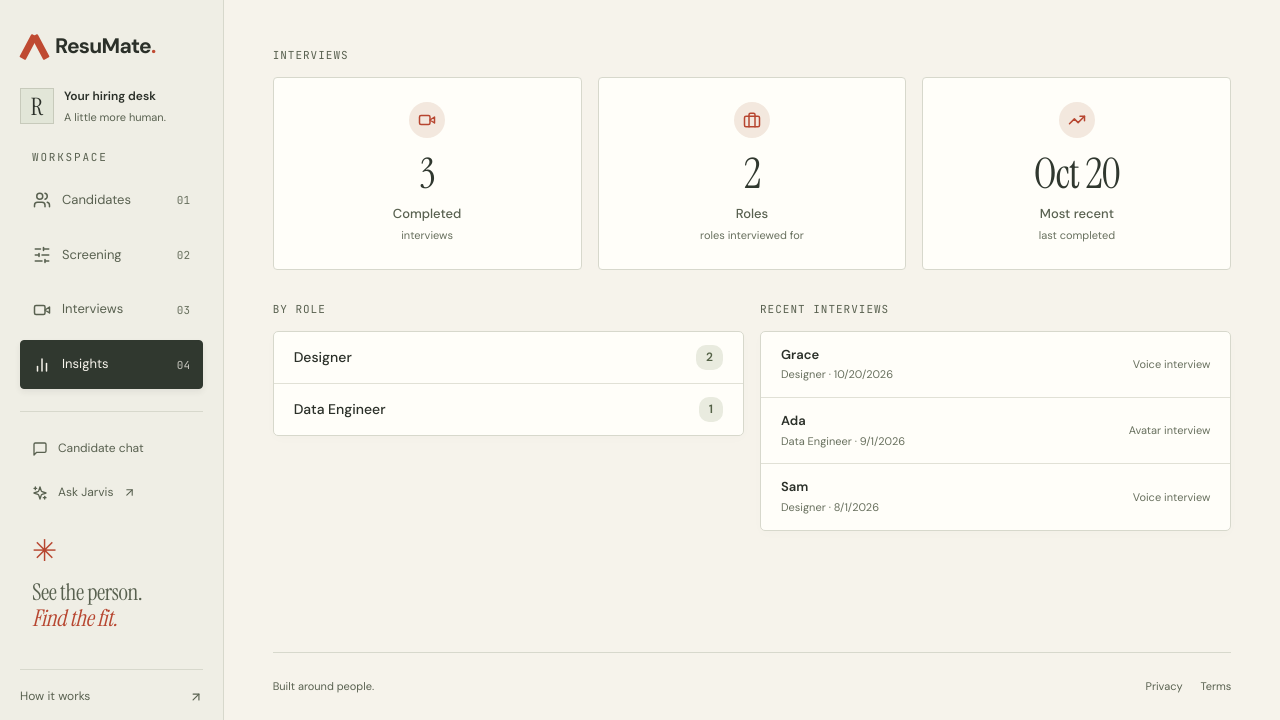
the interviews on Insights › open a recent interview's report, and come back
This screenshot has width=1280, height=720.
(page scrolled)
Click the button "Grace Designer · 10/20/2026 Voice interview": {"x": 800, "y": 354} [761,332,1230,398]
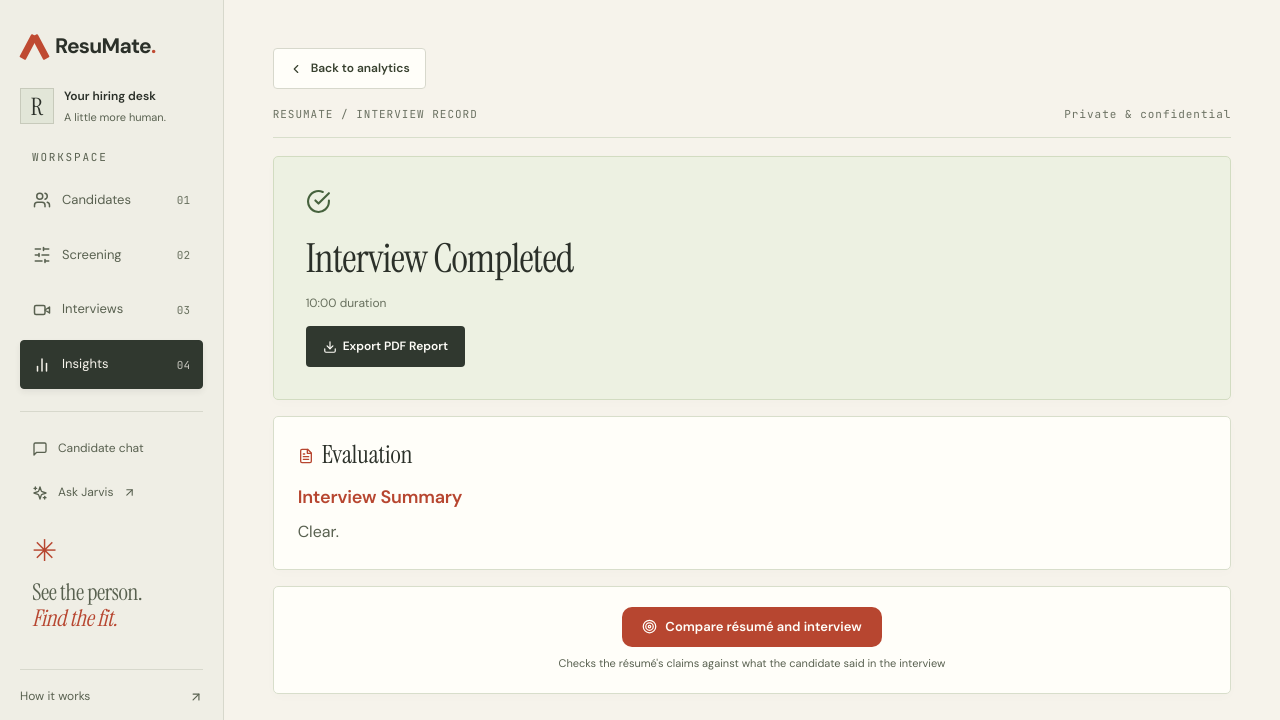
Now the heading "Interview Completed" is shown, box [306,232,573,284]
Click the button "Back to analytics": {"x": 349, "y": 68} [273,48,426,89]
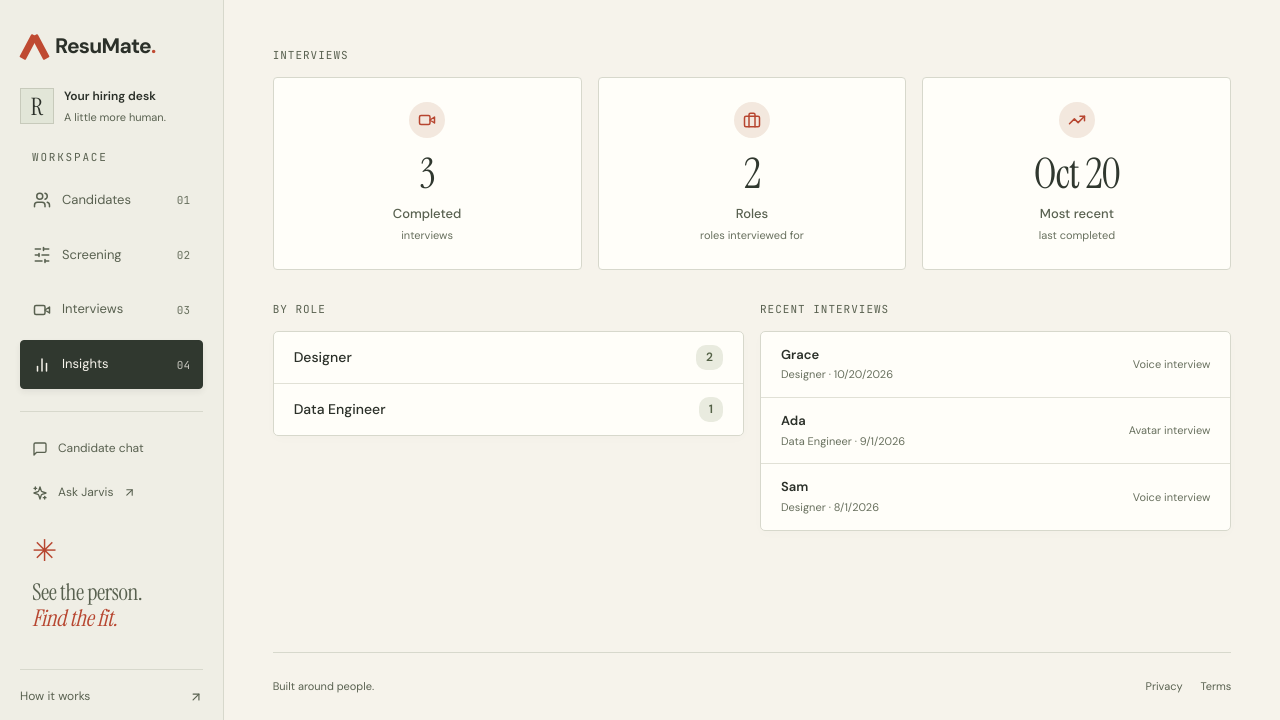
Now the heading "Recent Interviews" is shown, box [760,302,889,316]
